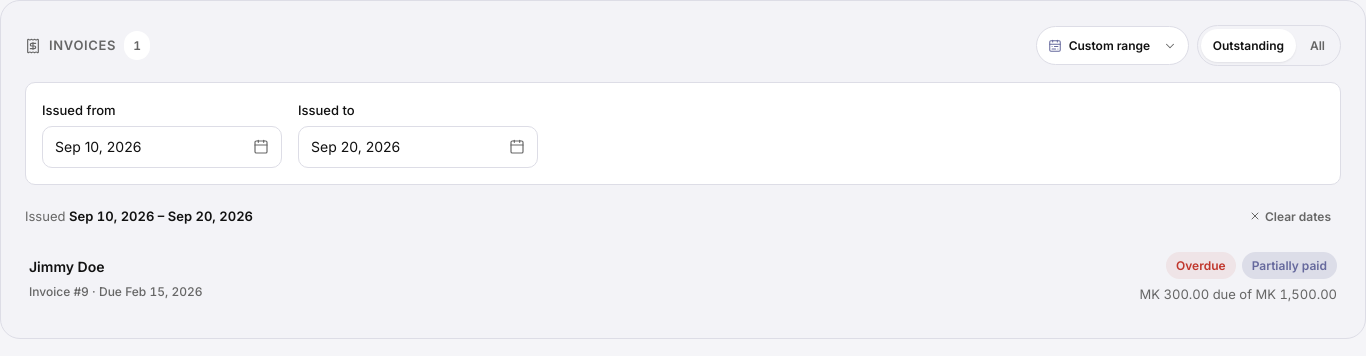
Scenario: InvoicesListPage issue-date filter › Clear dates goes back to All time and drops the custom dates
Expected: the text "Jimmy Doe" is shown, [29,258,104,275]
Click the button "Clear dates". click: [1290, 216]
box: [1239,201,1341,232]
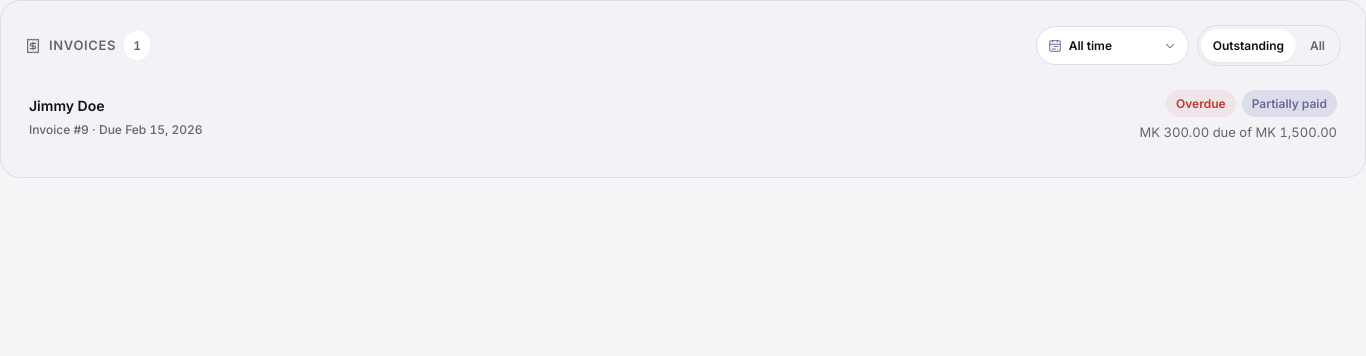
Expected: the dropdown named "Issued" shows "All time", [1036,26,1189,65]
Expected: the label labelled "Issued from" is gone
